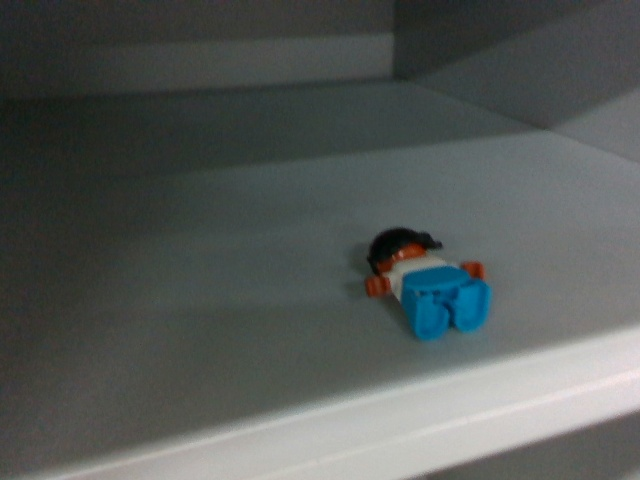people: (362, 223, 496, 342)
